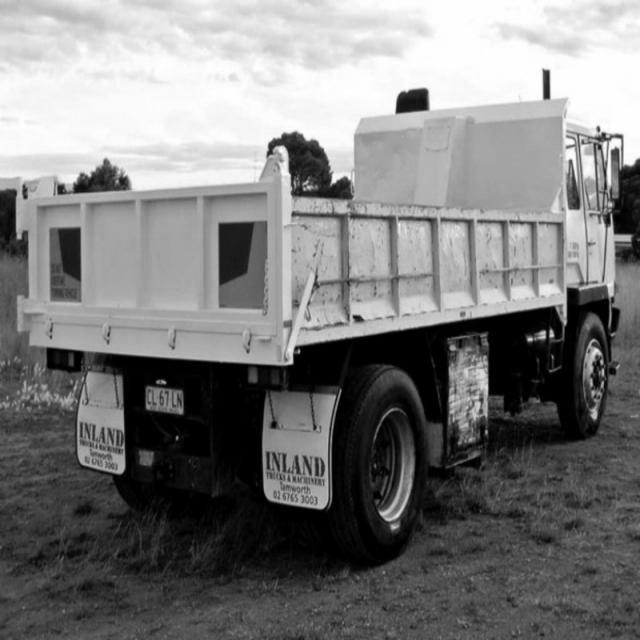truck: (19, 90, 626, 512)
